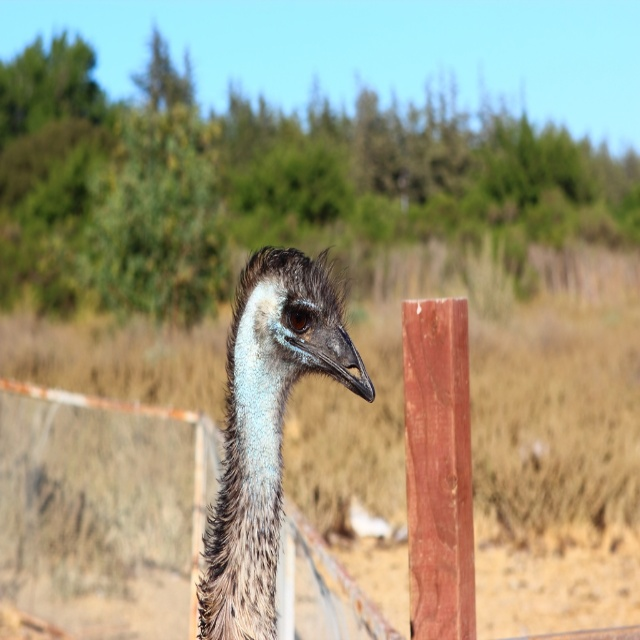Ostrich: (198, 244, 376, 639)
